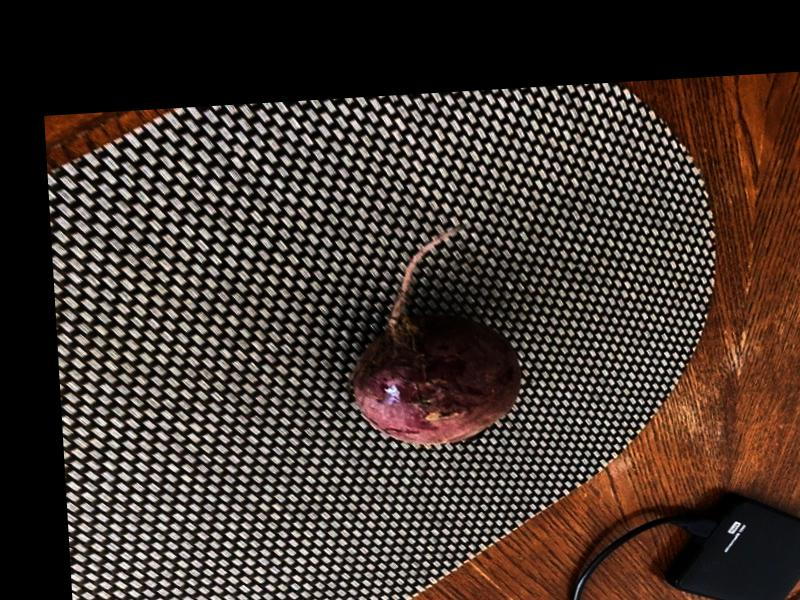Beet: (343, 221, 523, 448)
